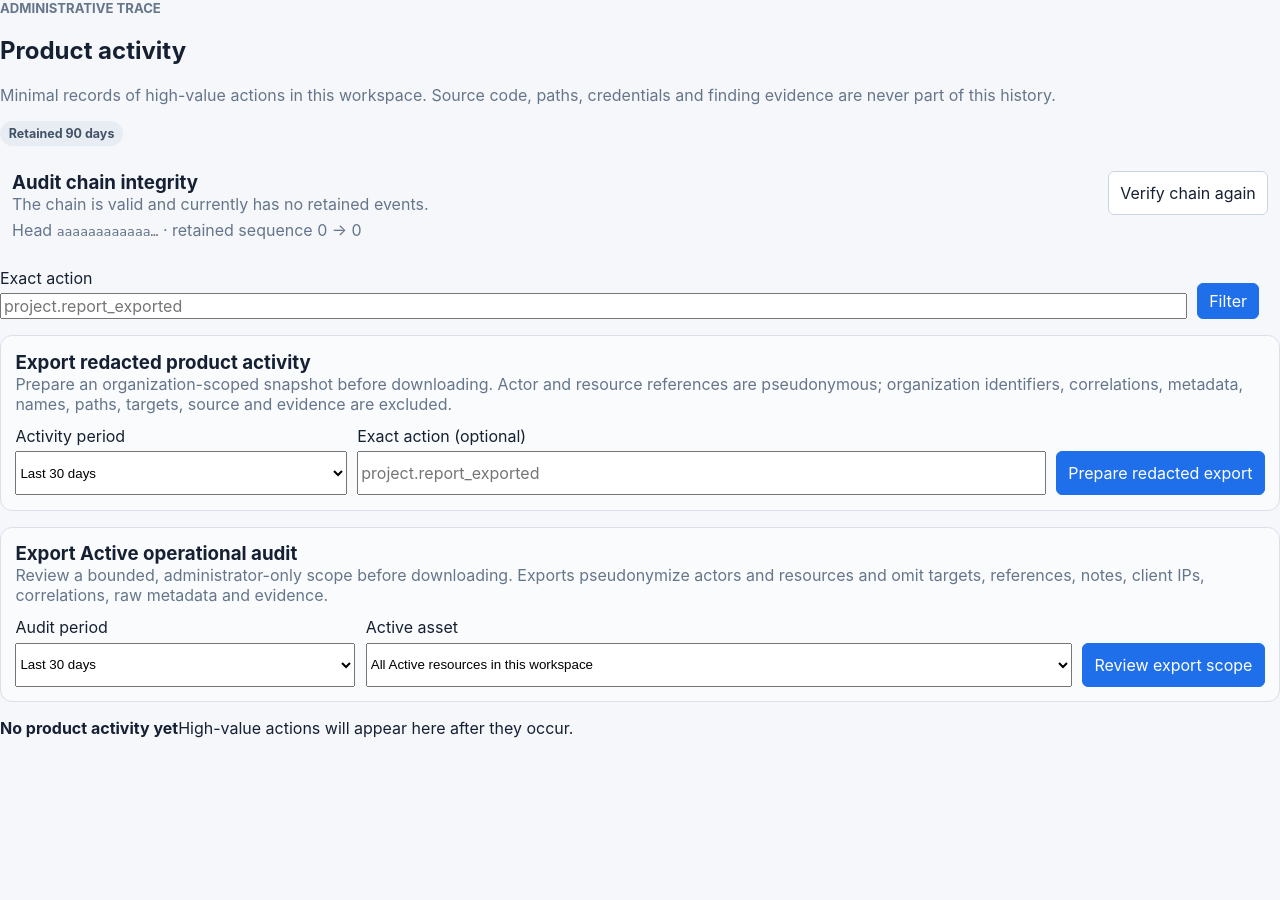
Test: ProductAuditPanel › does not offer an empty Active audit download and invalidates stale preflight on scope change
Expected: the text "No product activity yet" is shown, [0,718,178,738]
Click the button "Prepare redacted export": (1160, 473) [1056,451,1265,495]
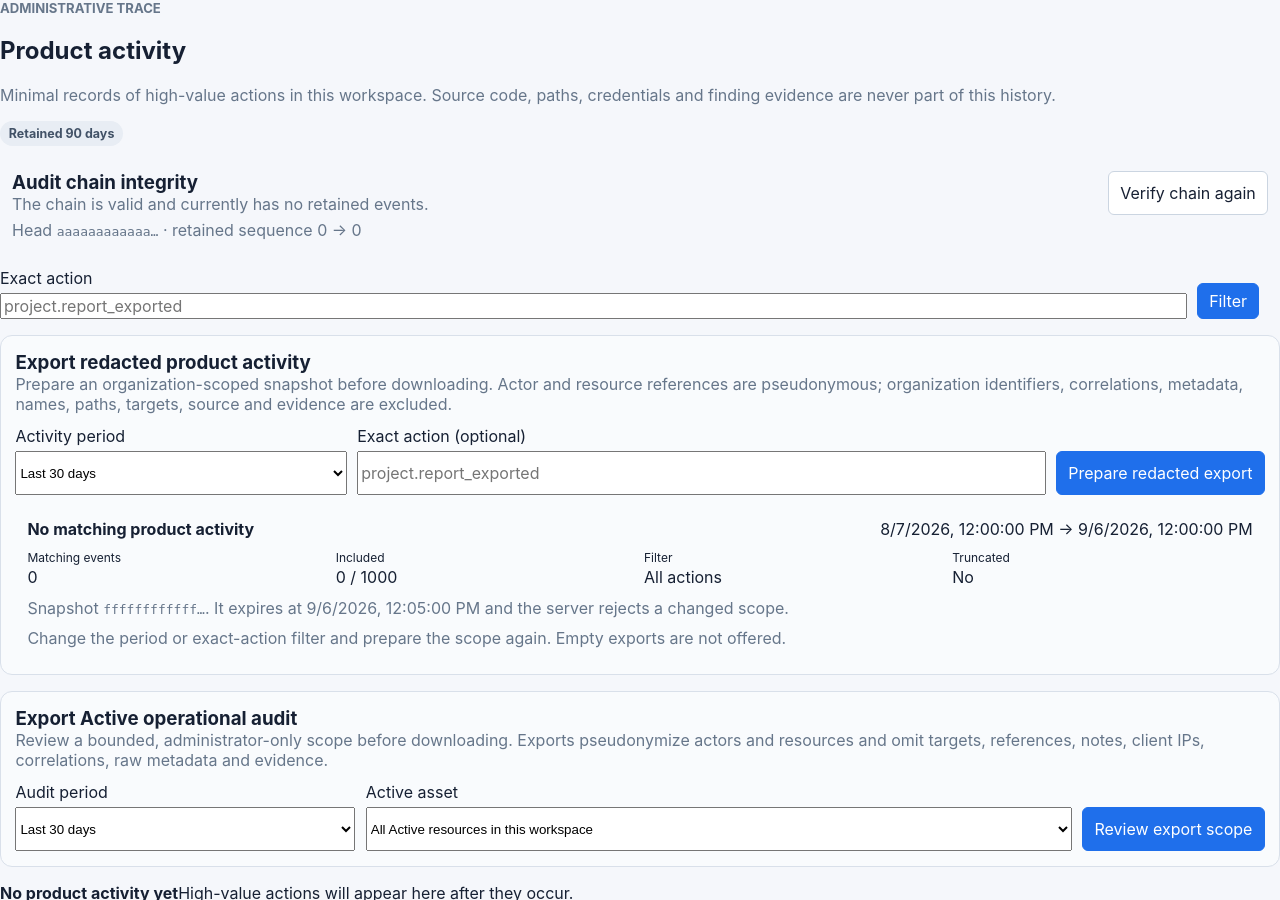
Now the text "No matching product activity" is shown, box [27,519,254,539]
Click the button "Review export scope": (1174, 829) [1082,807,1265,851]
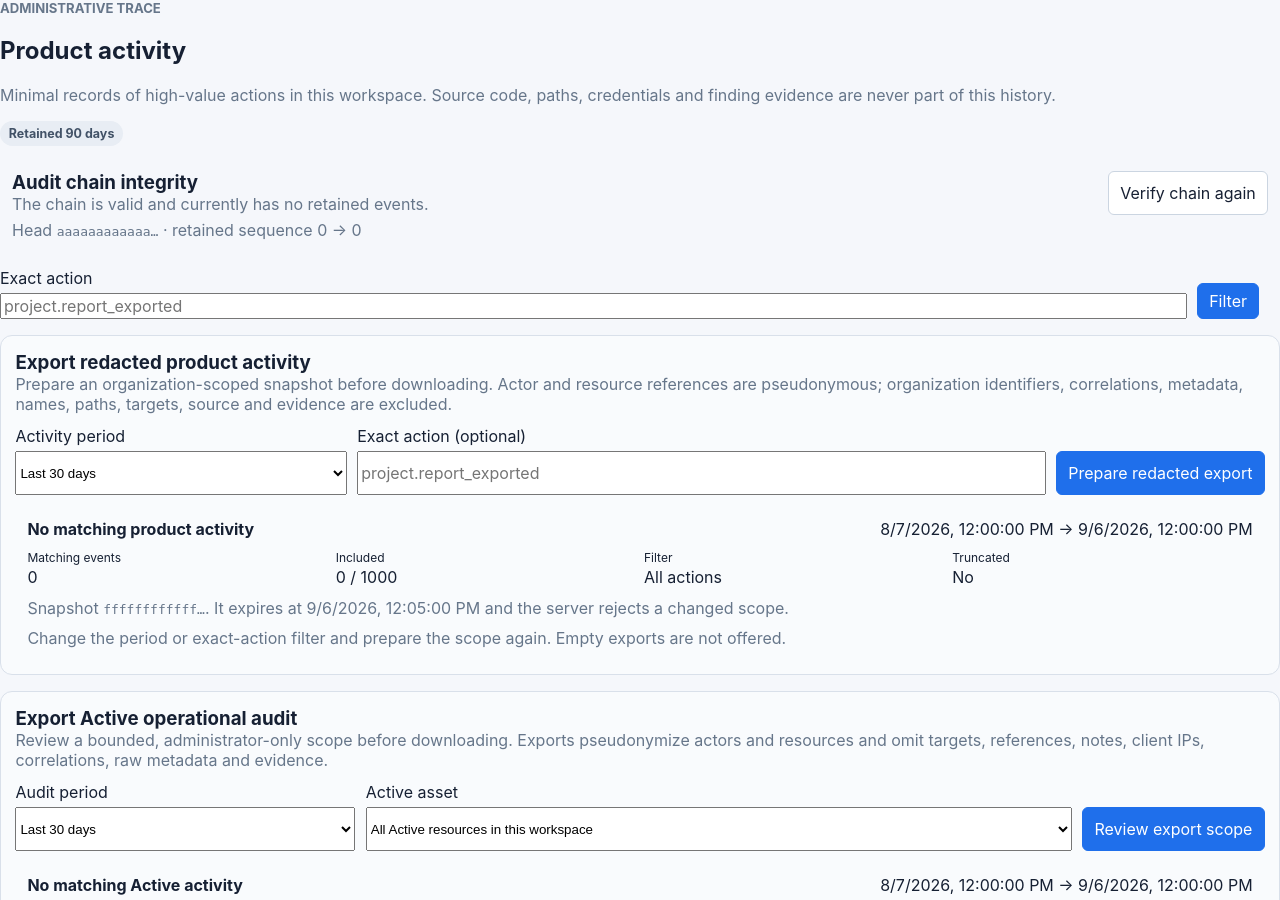
Now the text "No matching Active activity" is shown, box [27,875,243,895]
Select "Last 7 days" in the dropdown labelled "Audit period": (185, 829) [15,807,355,851]
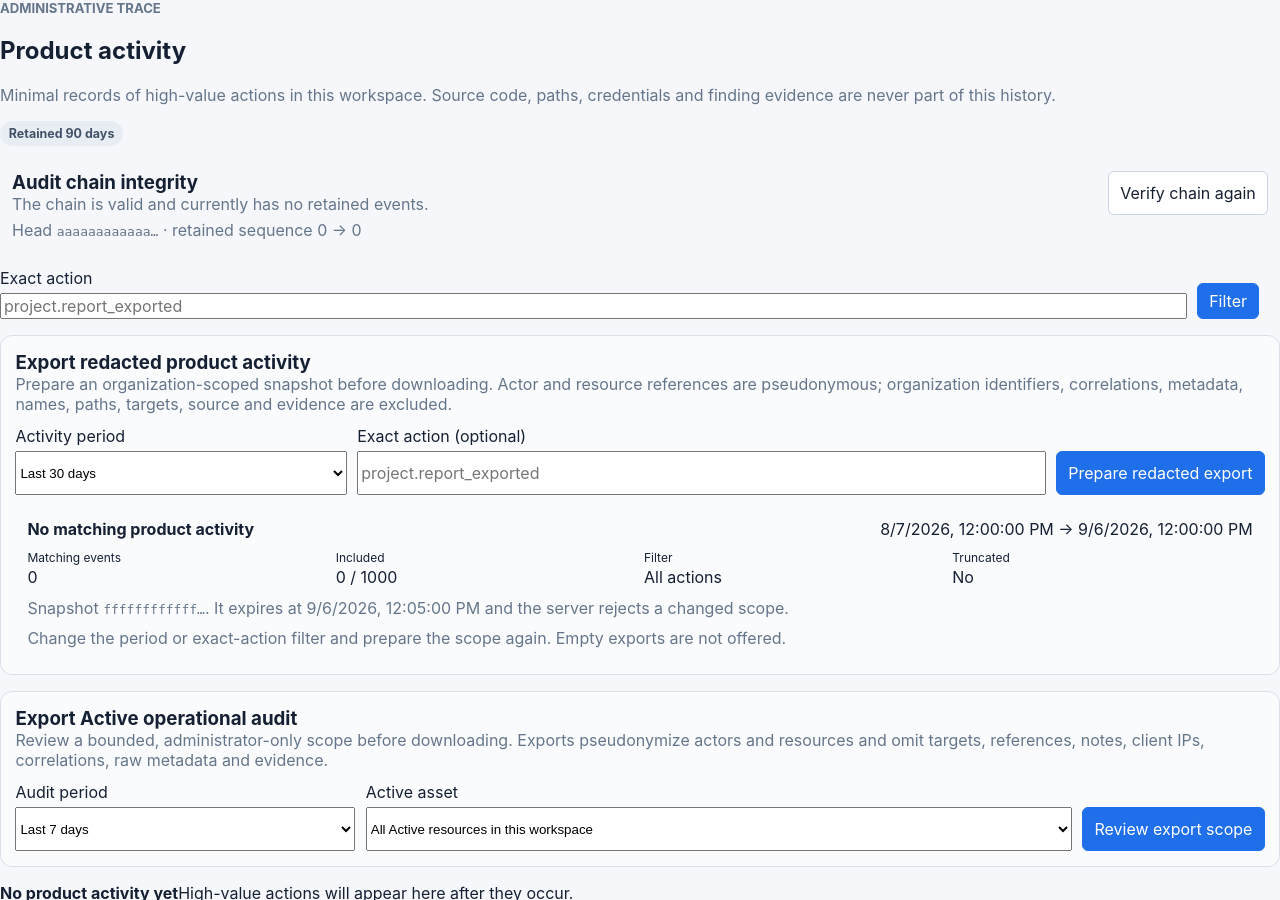
Now the text "No matching Active activity" is gone
